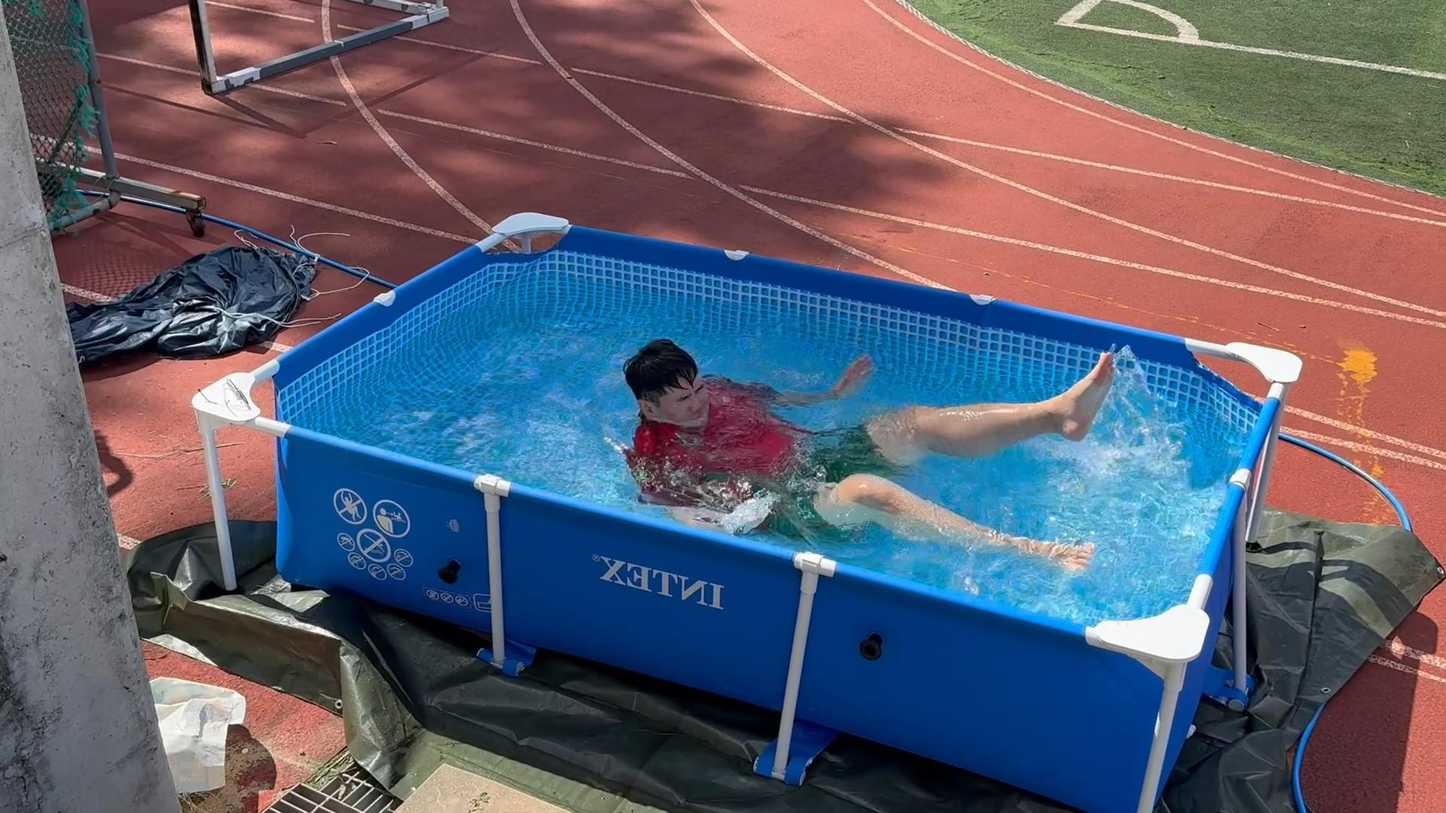Drowning: (562, 297, 1146, 589)
